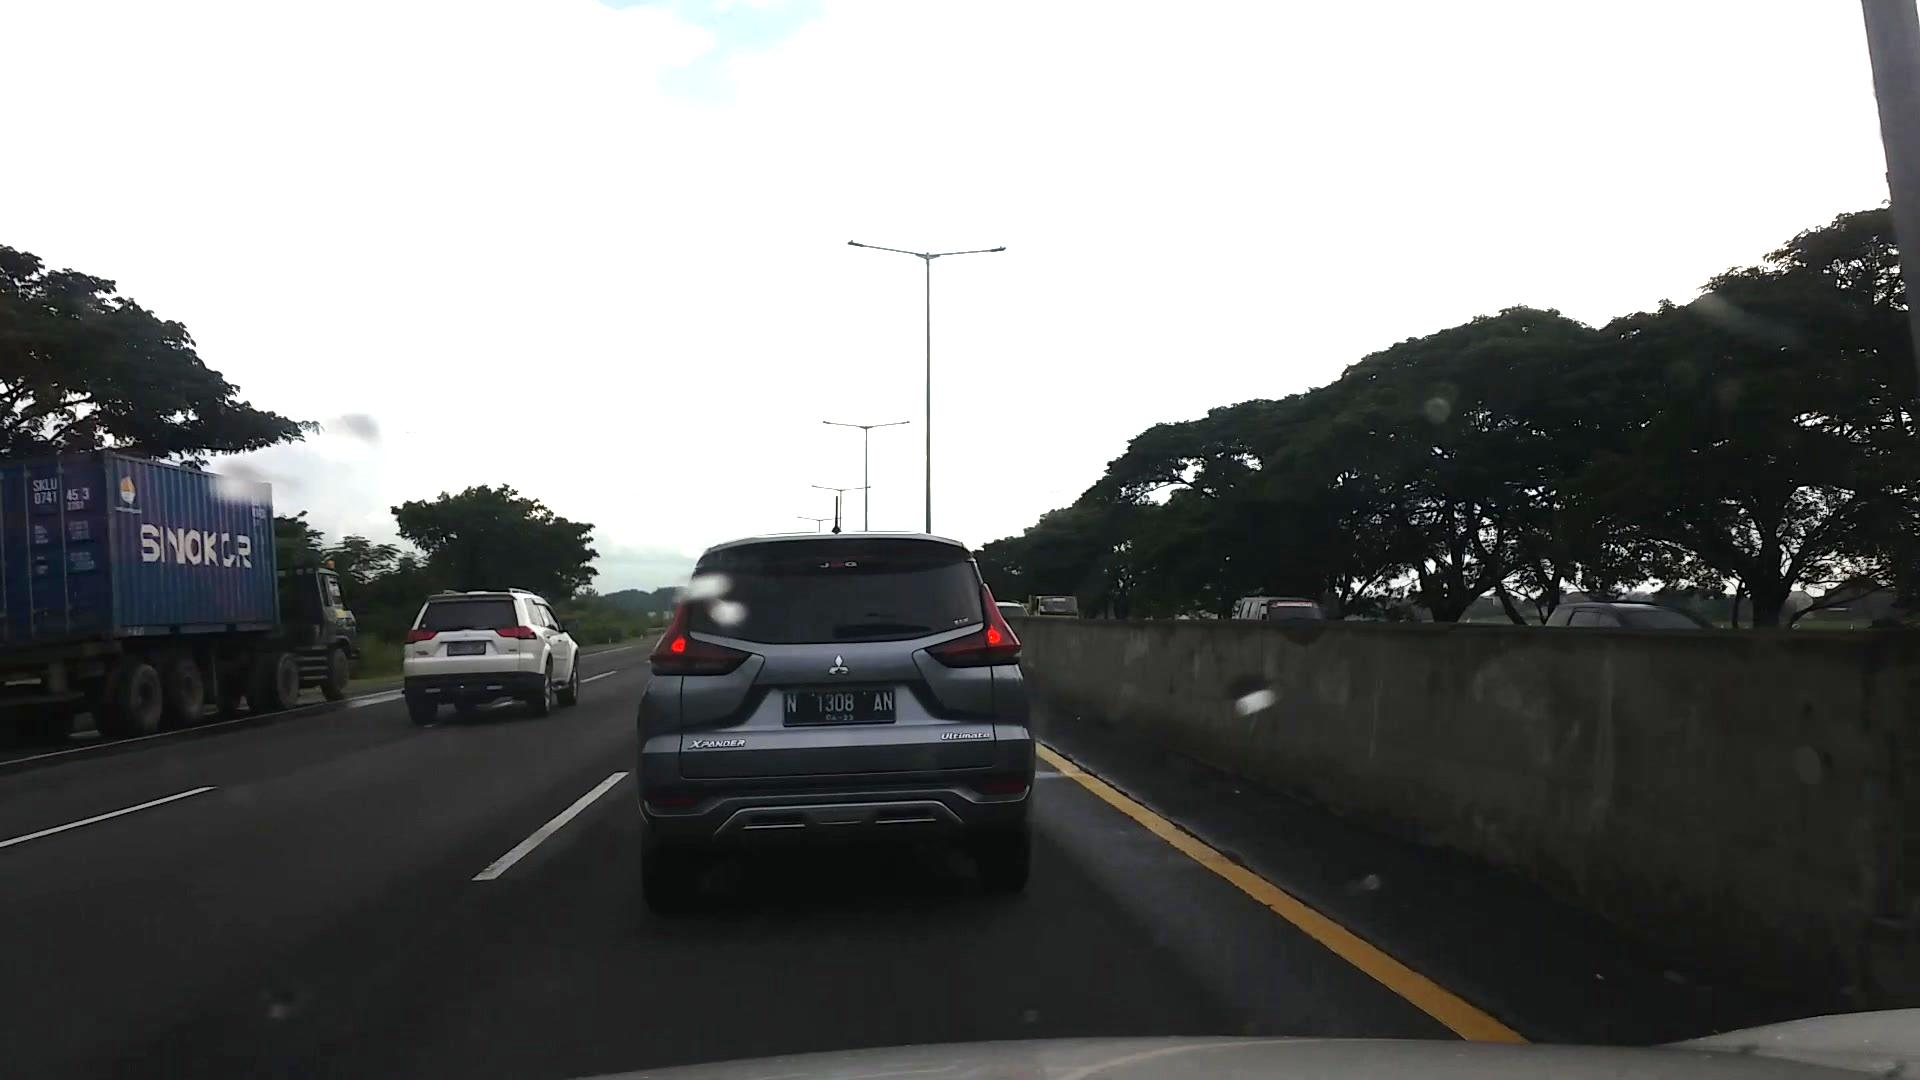plate_positive: (785, 688, 895, 727)
